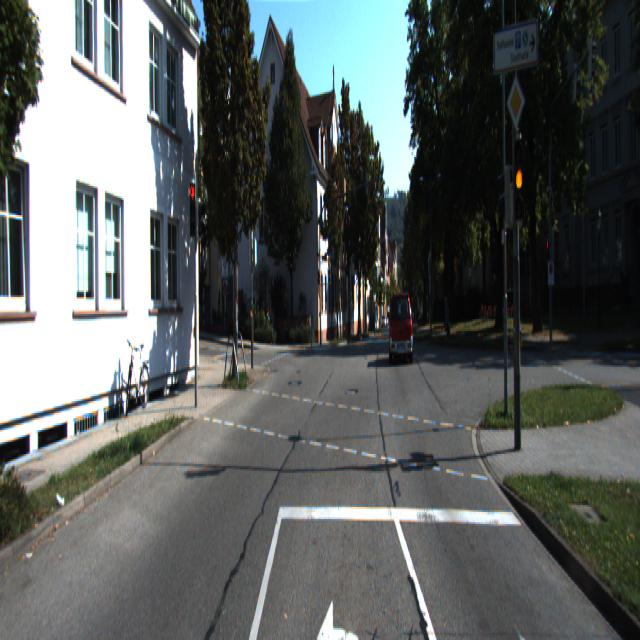Car: (390, 294, 415, 365)
